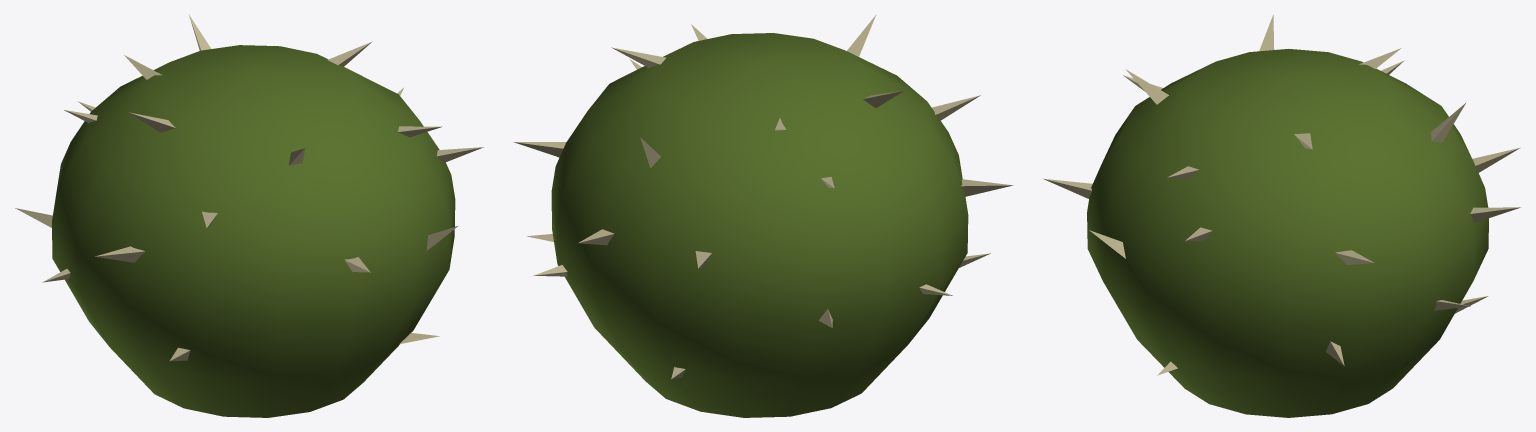
File: Sm_CactusVer5L.fbx
3 renders of one model, left to right at view 1: azimuth 30°, elevation 25°; view 2: azimuth 150°, elevation 25°; view 3: azimuth 270°, elevation 25°, orthographic. The views are drawn at different scales.
Visible parts, largest first — view 1: Sm_CactusVer5L; view 2: Sm_CactusVer5L; view 3: Sm_CactusVer5L.
Boxes of the visible parts, bbox=[...] form: Sm_CactusVer5L: bbox=[15, 15, 483, 417]; Sm_CactusVer5L: bbox=[513, 15, 1013, 417]; Sm_CactusVer5L: bbox=[1043, 15, 1520, 417].
Bounding box in the file's own units: 59.4 × 42.14 × 62.26.
